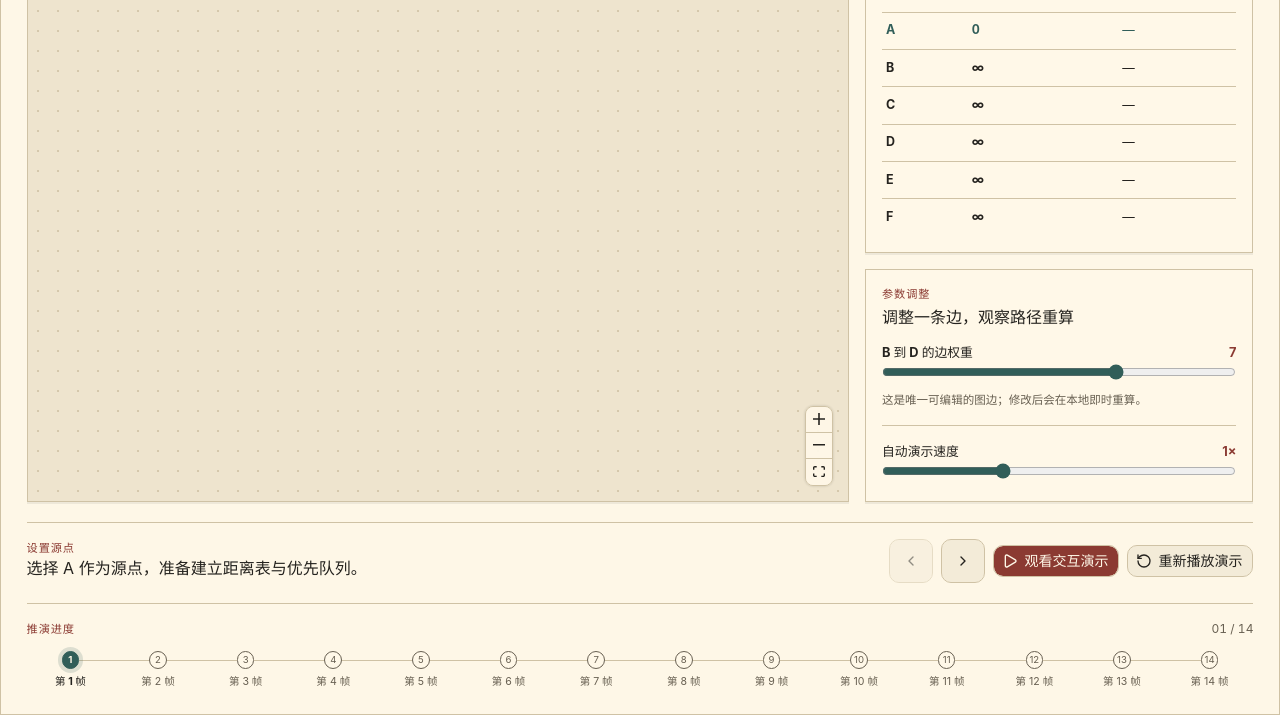
Test: DijkstraDemo › immediately stops autoplay when native reduced motion changes
(page scrolled)
Click the button "观看交互演示". click: (1056, 561)
box: 993,545 -> 1119,577
Wait 1400 ms
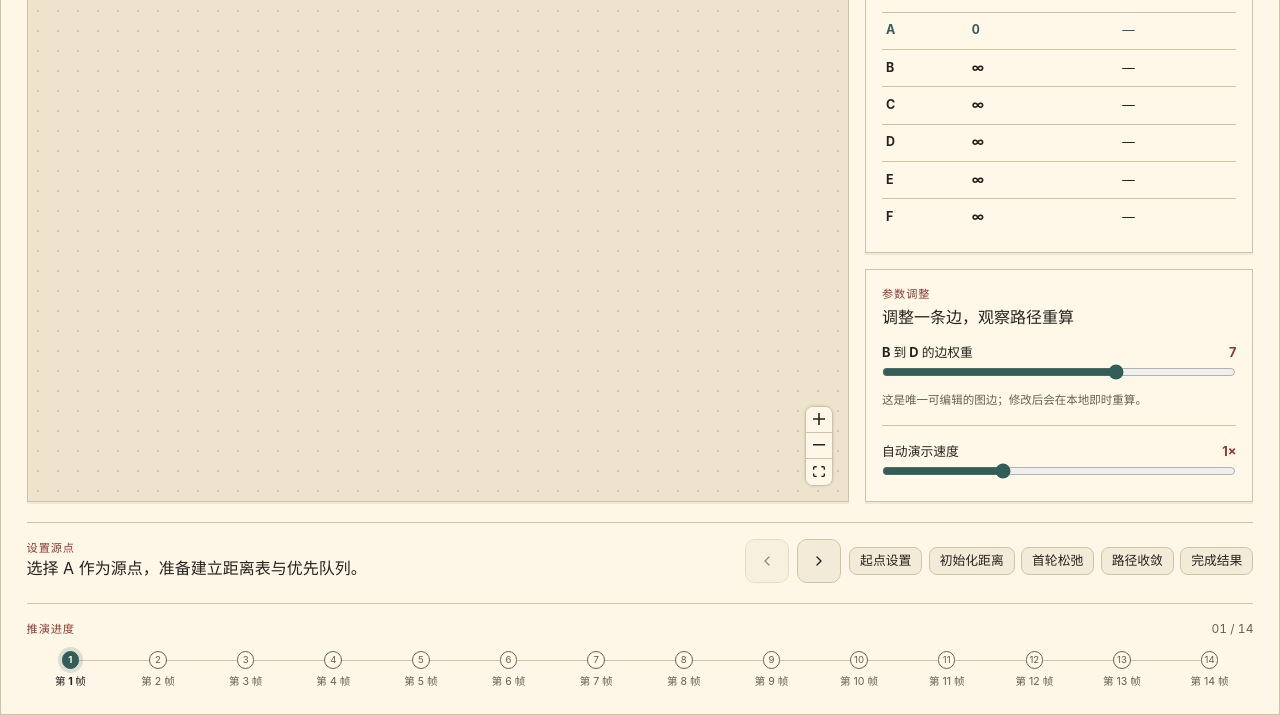
Result: the button "观看交互演示" is gone
